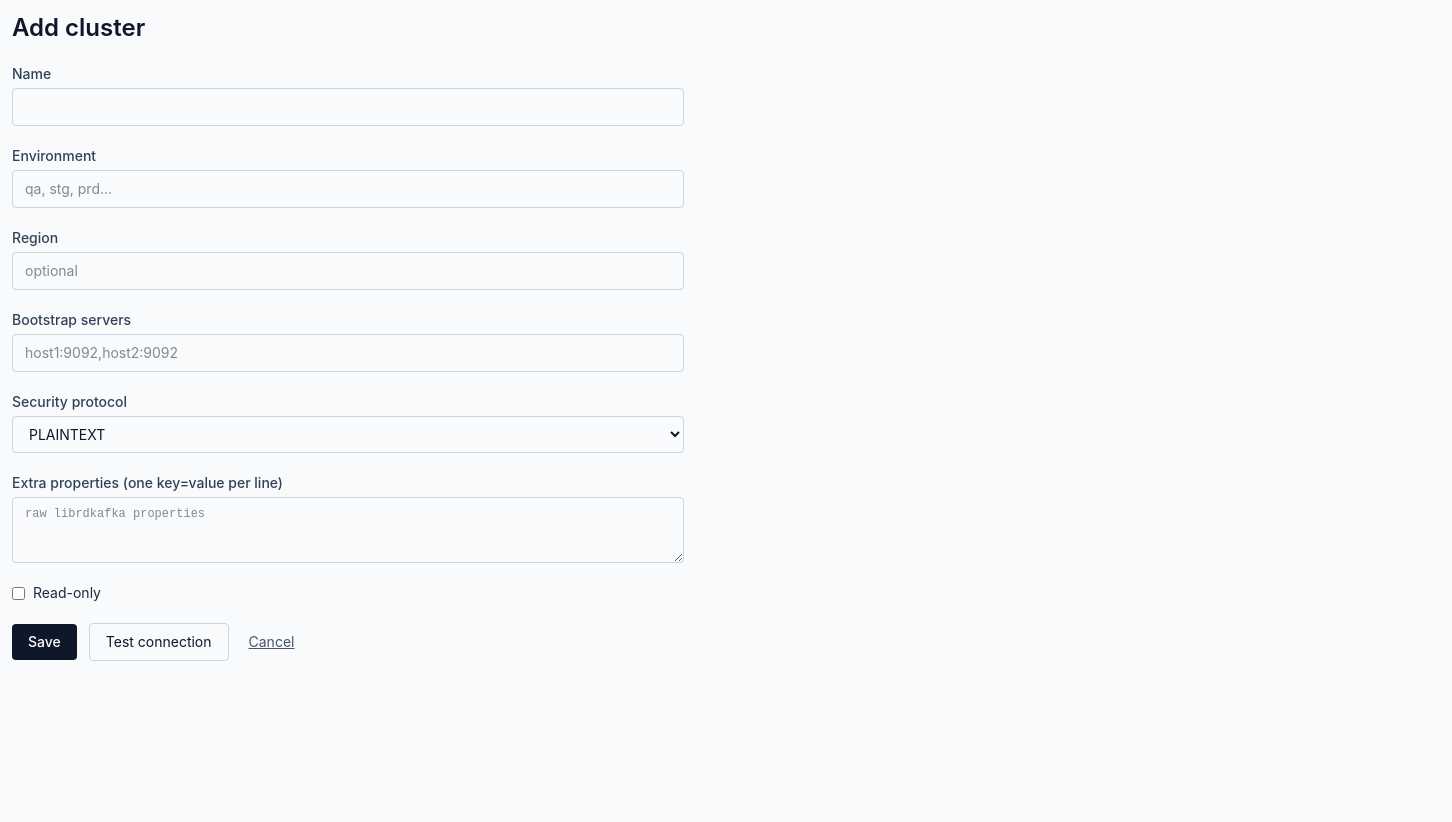
Test: ClusterForm create › toasts an error that has no field
Type "dev" into the field labelled "Name".
click(348, 107); type("dev")  # box [12, 88, 684, 126]
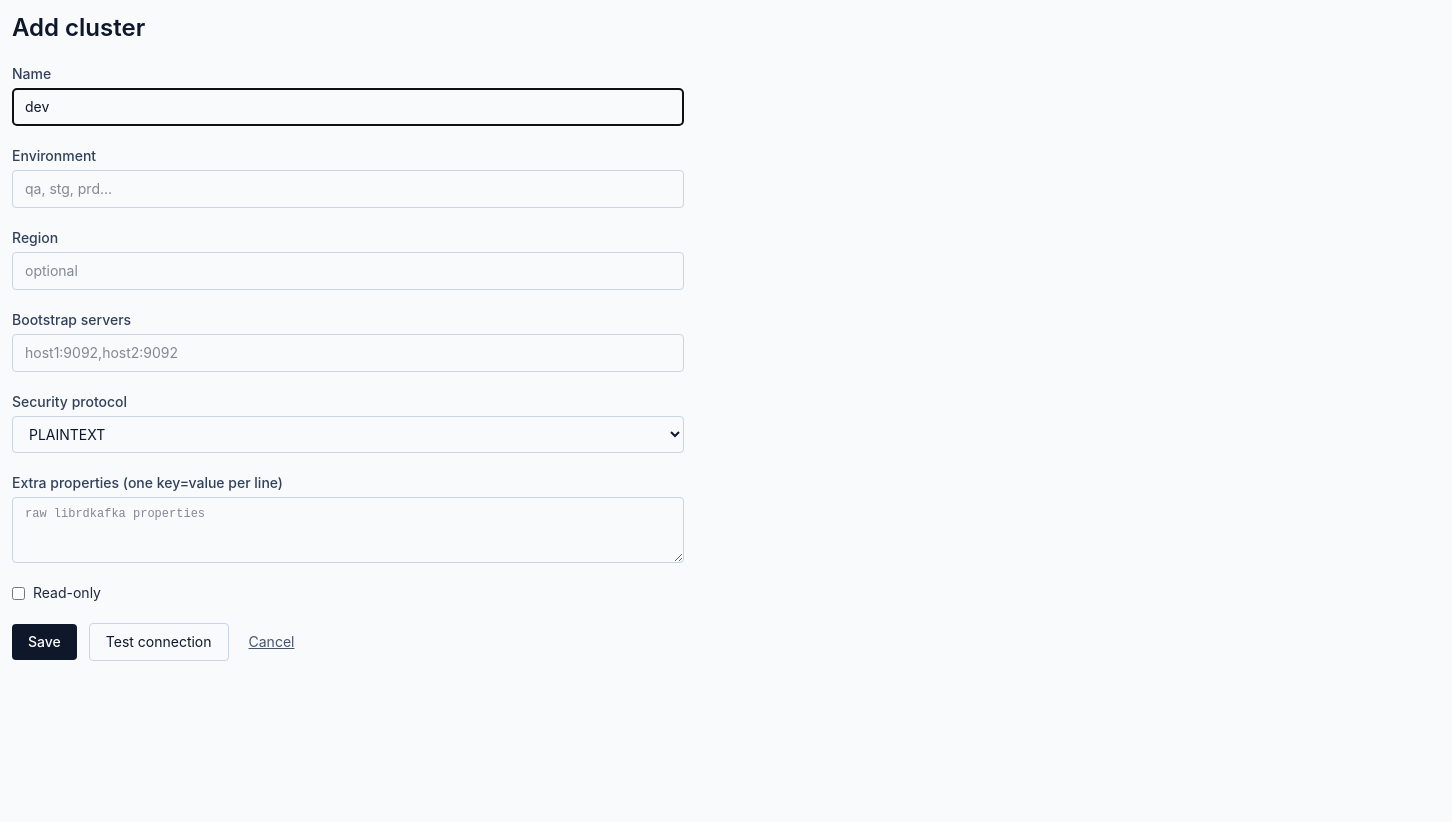
Type "dev" into the field labelled "Environment".
click(348, 189); type("dev")  # box [12, 170, 684, 208]
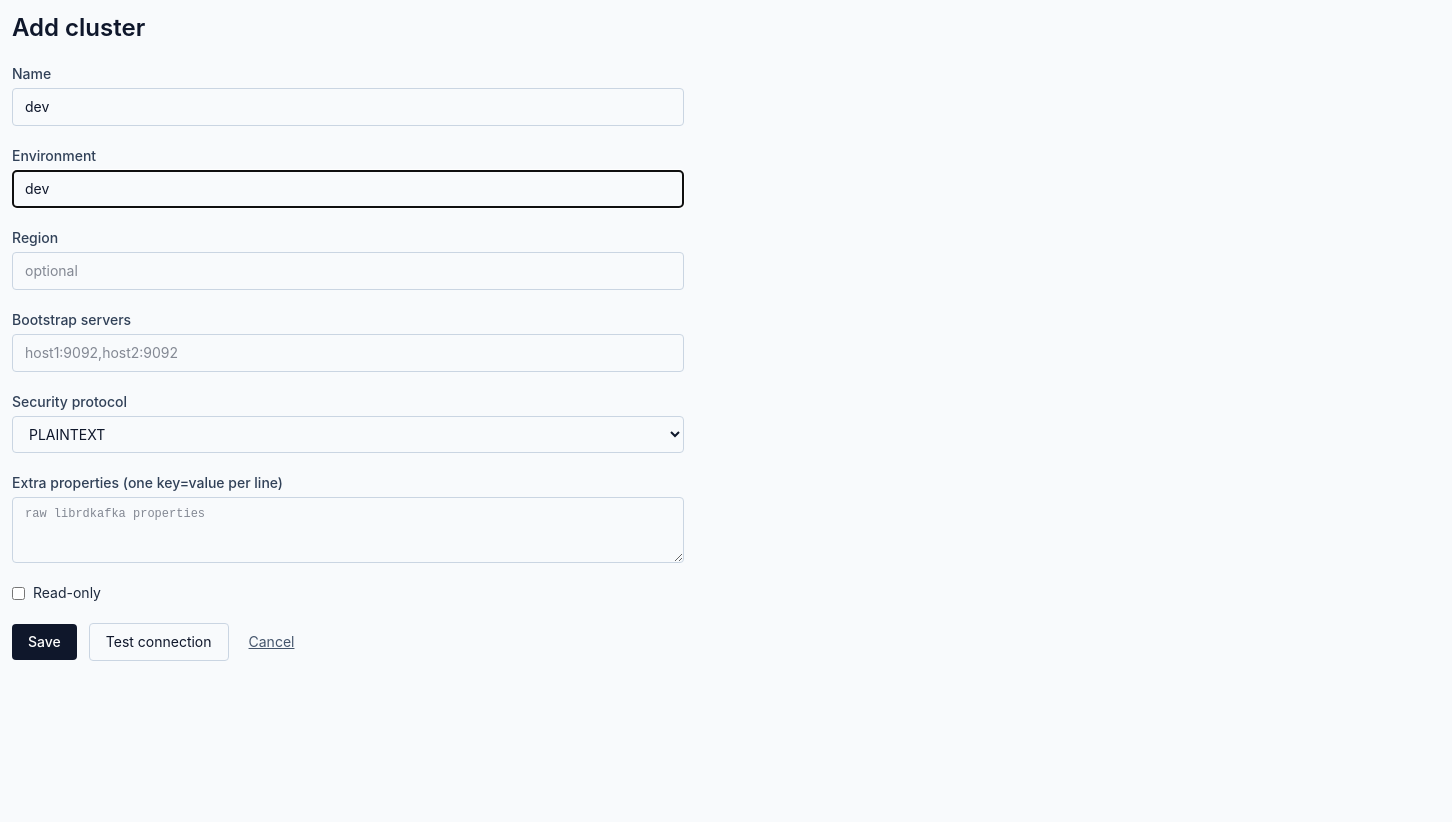
Type "localhost:9092" into the field labelled "Bootstrap servers".
click(348, 353); type("localhost:9092")  # box [12, 334, 684, 372]
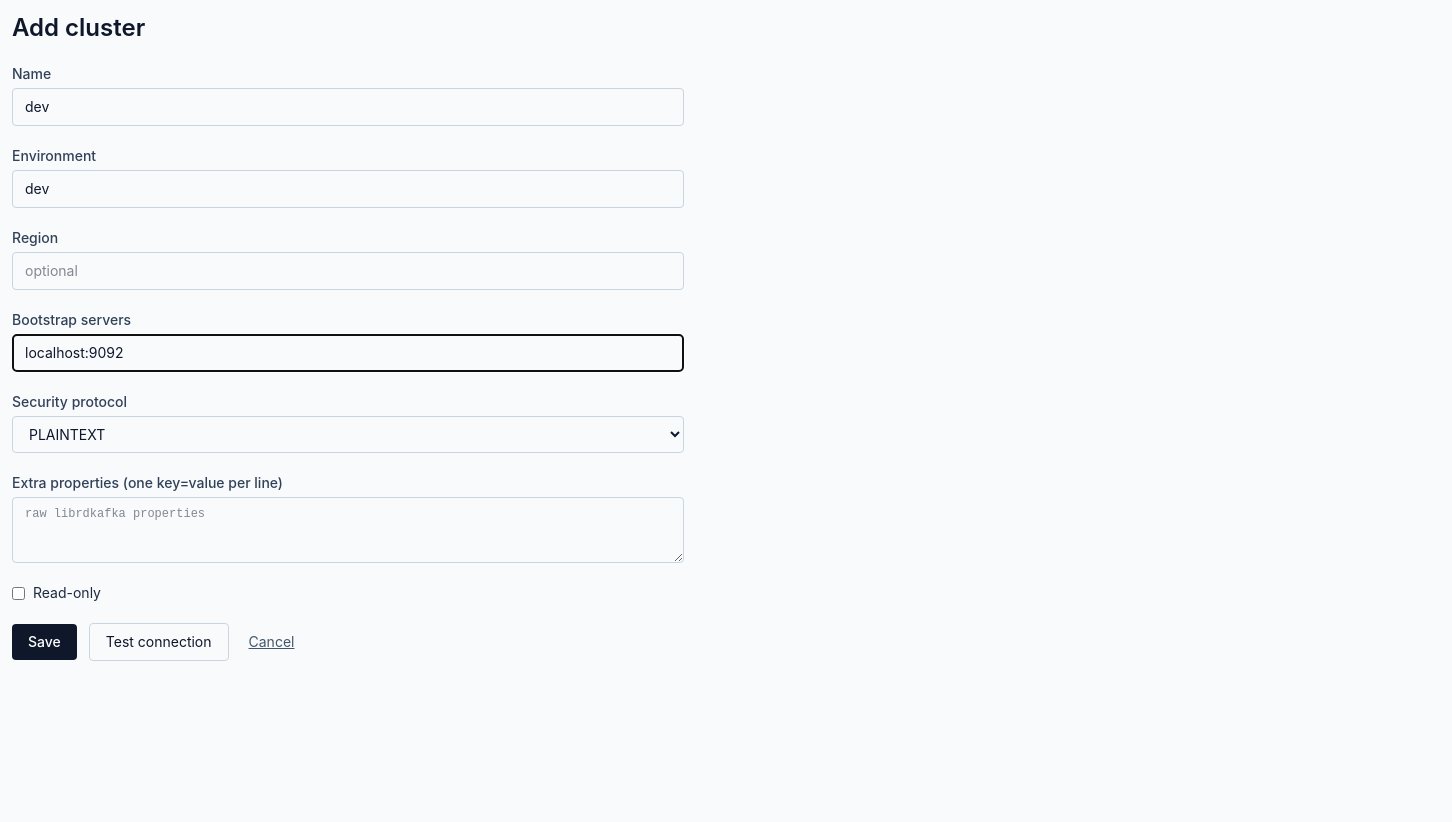
Click the button "Save".
click(44, 642)  # box [12, 624, 77, 660]
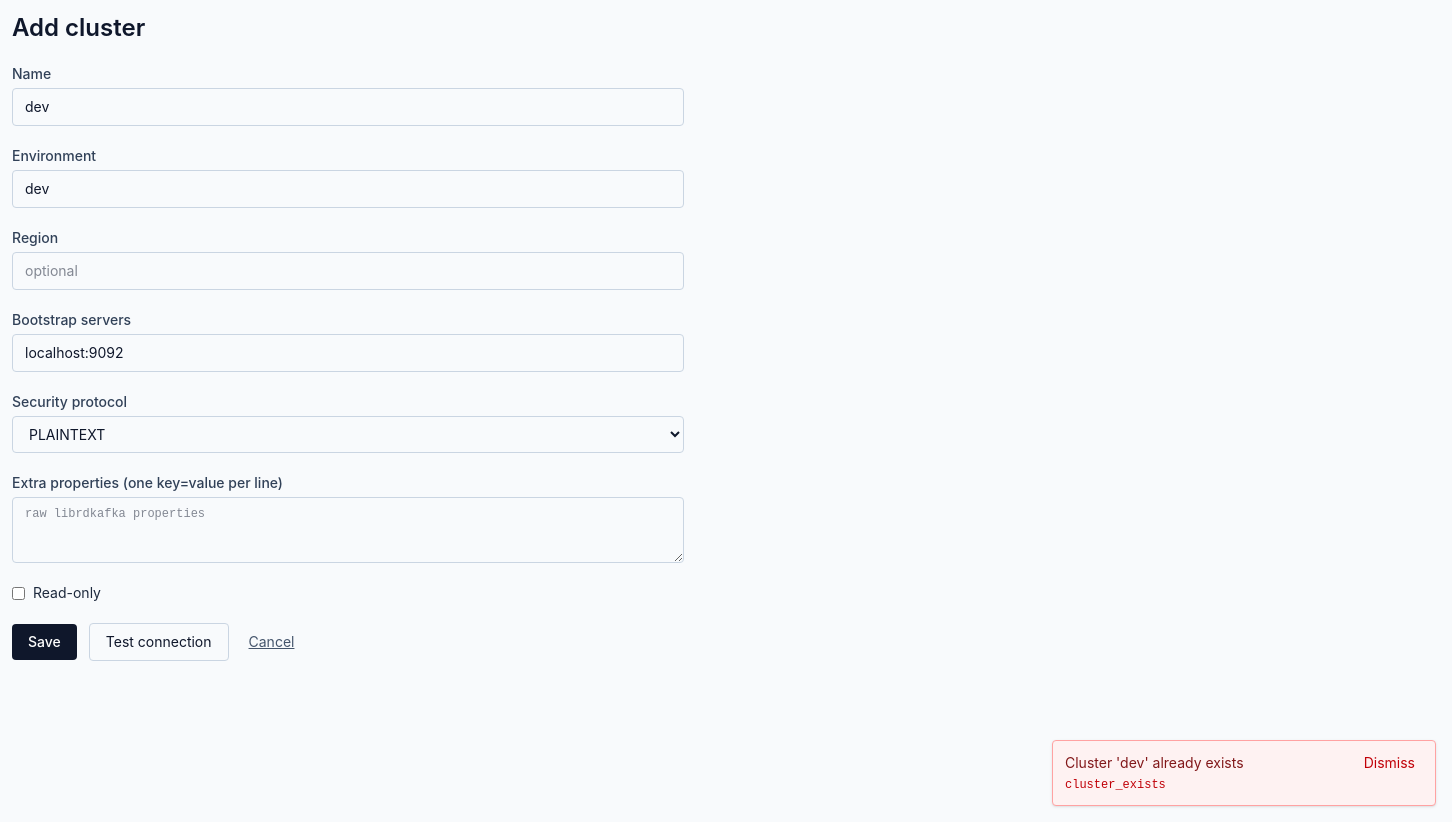
Expected: the message shows "Cluster 'dev' already exists", [1065, 754, 1244, 771]
